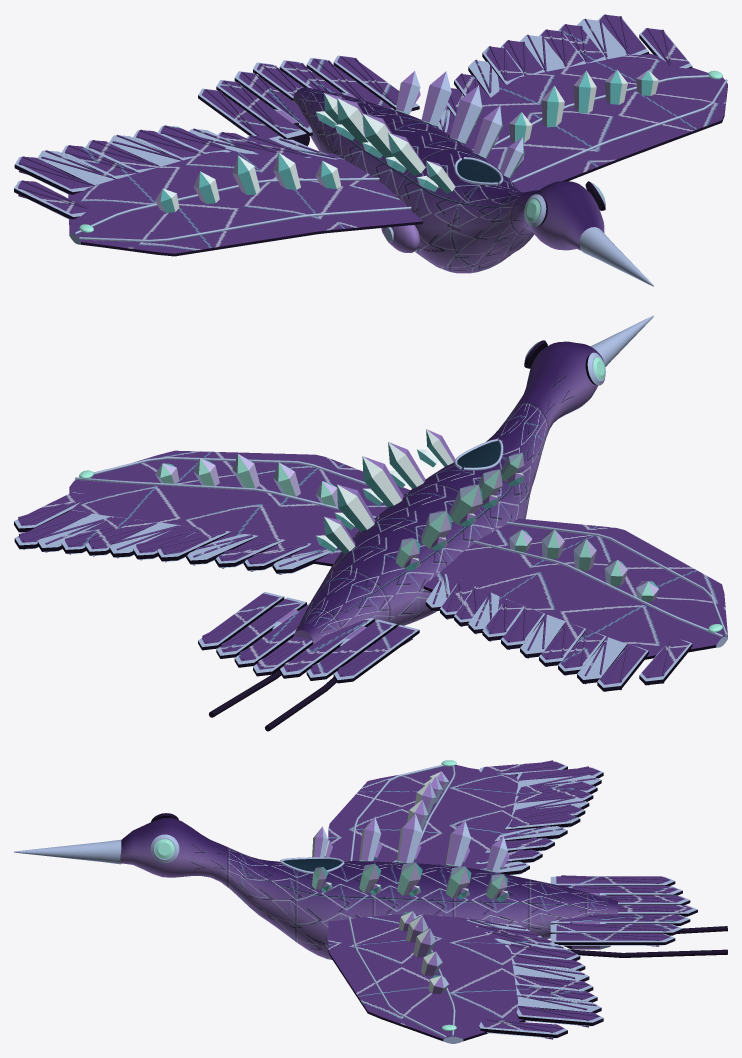
3 views of the same model, one above another, from view 1: azimuth 30°, elevation 25°; view 2: azimuth 150°, elevation 25°; view 3: azimuth 270°, elevation 25° (orthographic). The views are drawn at different scales.
Visible parts, largest first — view 1: egret_hull; view 2: egret_hull; view 3: egret_hull.
Part boxes in pixels (x1=…): egret_hull: x1=14, y1=14, x2=727, y2=286; egret_hull: x1=14, y1=315, x2=727, y2=731; egret_hull: x1=14, y1=760, x2=727, y2=1043.
Bounding box in the file's own units: 57.92 × 13.44 × 64.
Materials: 1 (1 with a texture image).
